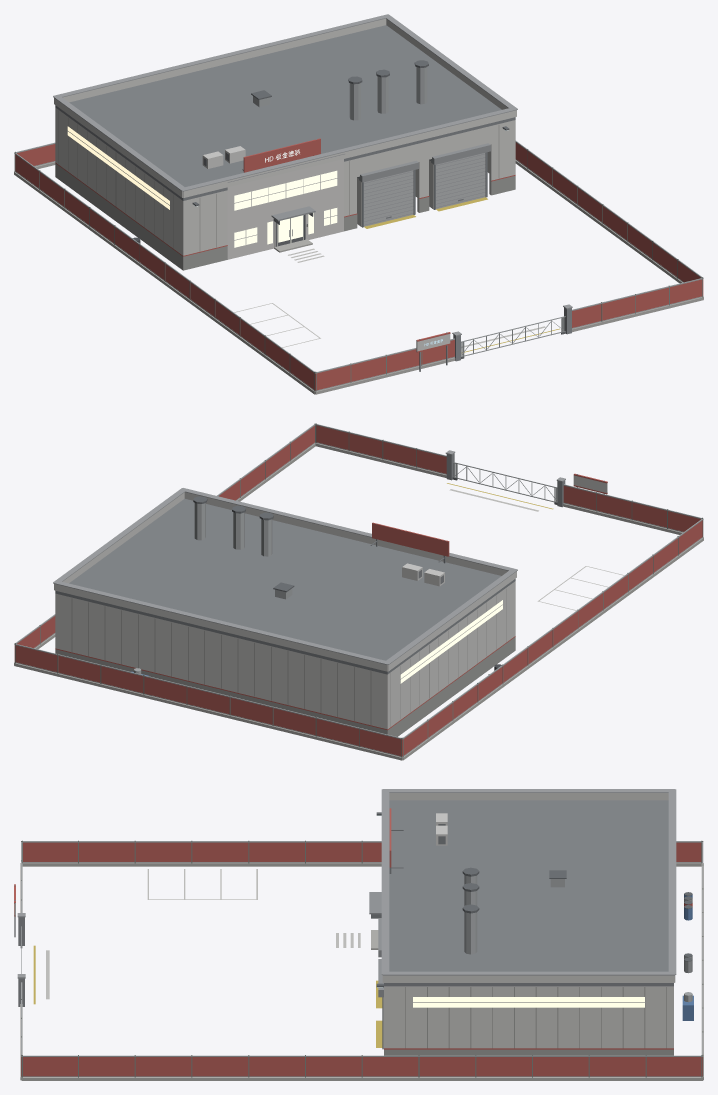
The model's file is biz_4005.glb.
3 views of the same model, one above another, from view 1: azimuth 30°, elevation 25°; view 2: azimuth 150°, elevation 25°; view 3: azimuth 270°, elevation 25° (orthographic). The views are drawn at different scales.
Parts seen in each view (by area): view 1: Static, Shutter_Down, Windows, Gate_Closed; view 2: Static, Windows, Gate_Closed; view 3: Static, Windows.
Boxes of the visible parts, bbox=[...] form: Static: bbox=[14, 14, 703, 394]; Shutter_Down: bbox=[364, 152, 485, 226]; Windows: bbox=[67, 126, 337, 247]; Gate_Closed: bbox=[461, 316, 565, 358]; Static: bbox=[14, 423, 703, 760]; Windows: bbox=[400, 600, 502, 683]; Gate_Closed: bbox=[452, 462, 557, 504]; Static: bbox=[14, 789, 703, 1080]; Windows: bbox=[413, 997, 644, 1007].
Size of the model in its own units: 35.16 by 9.64 by 47.6.
